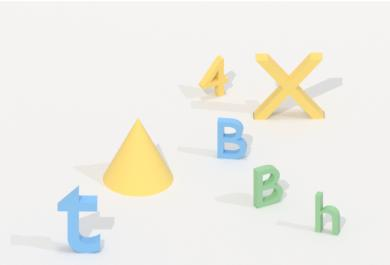0-TamGiac: (100, 112, 177, 200)
4: (197, 53, 231, 101)
B: (249, 160, 285, 212), (213, 113, 250, 162)
X: (252, 47, 329, 124)
h: (310, 187, 345, 240)
t: (53, 180, 106, 257)
